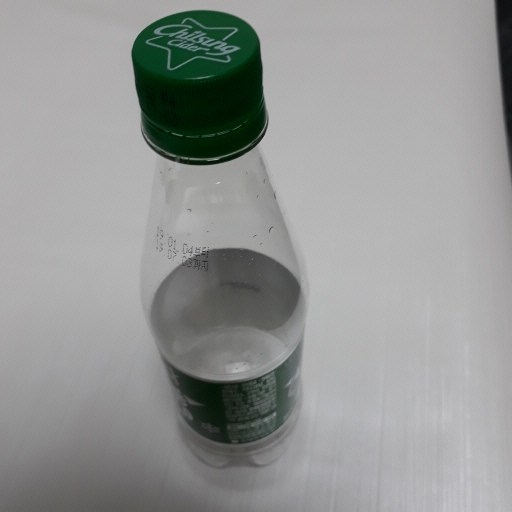Plastic_0: (127, 8, 310, 477)
